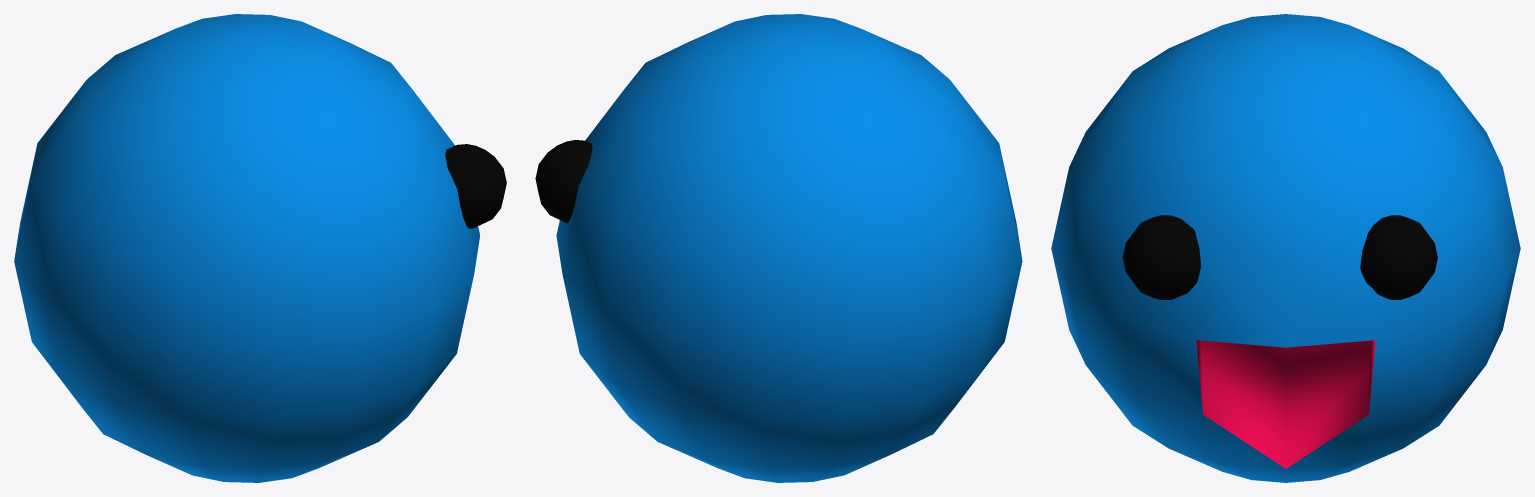
The picture shows the model from 3 angles, left to right: view 1: azimuth 30°, elevation 25°; view 2: azimuth 150°, elevation 25°; view 3: azimuth 270°, elevation 25°; orthographic projection.
Parts seen in each view (by area): view 1: Sphere, Sphere.001; view 2: Sphere, Sphere.002; view 3: Sphere, Sphere.003, Sphere.001, Sphere.002.
Boxes of the visible parts, box(x1,y1,x2,y2) form: Sphere: box(14, 14, 479, 482); Sphere.001: box(445, 144, 506, 228); Sphere: box(556, 14, 1022, 482); Sphere.002: box(535, 140, 592, 222); Sphere: box(1051, 14, 1520, 482); Sphere.003: box(1196, 340, 1375, 468); Sphere.001: box(1122, 215, 1200, 299); Sphere.002: box(1360, 215, 1437, 299).
Bounding box in the file's own units: 2 × 2 × 2.
